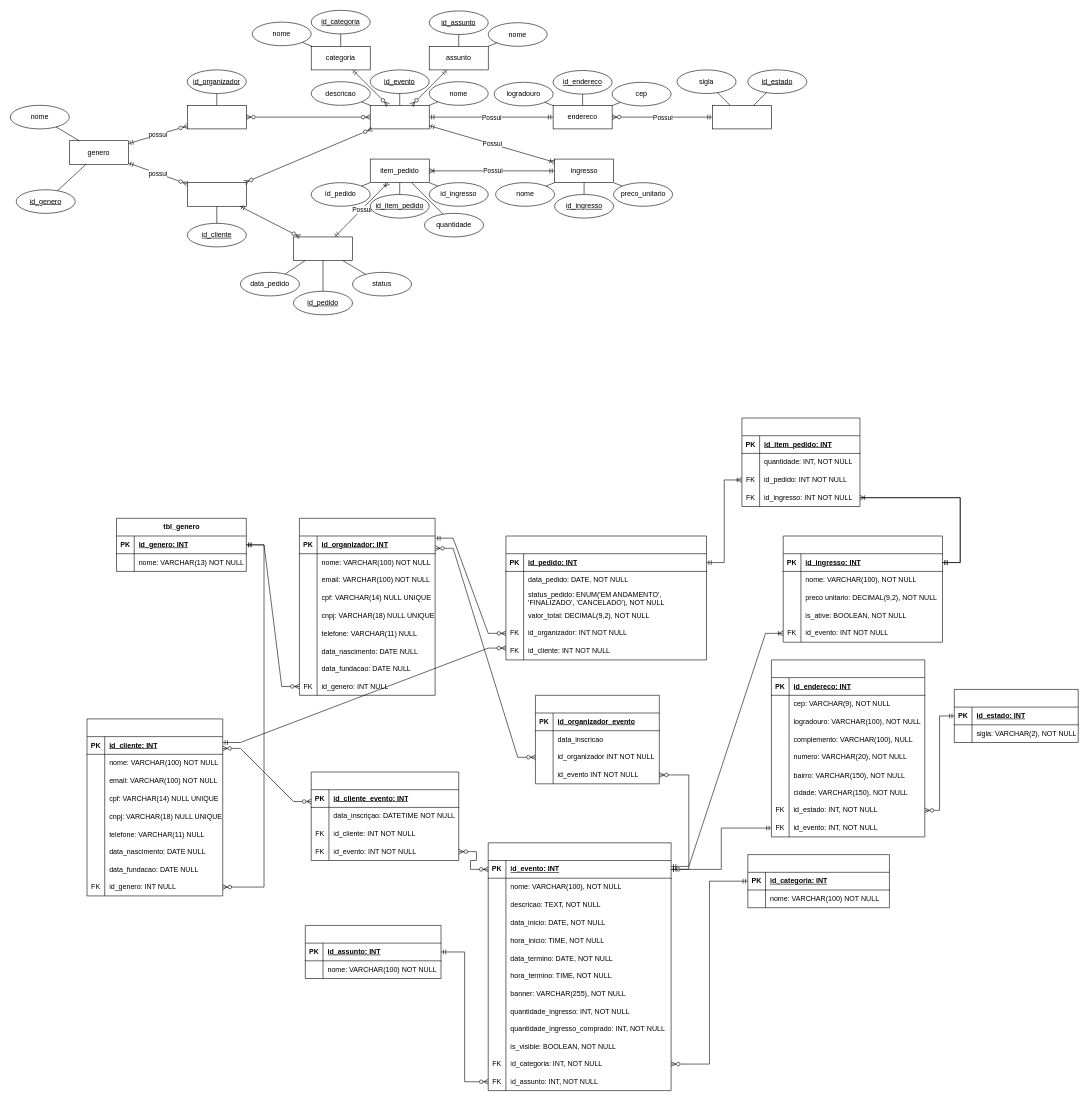
Some shapes in this 1089 by 1101 pixel diagram are drawn without their labels. Each missing label, with the box of its shape:
cliente: (187, 182, 246, 206)
estado: (712, 105, 771, 129)
evento: (370, 105, 429, 129)
organizador: (187, 105, 246, 129)
pedido: (293, 236, 353, 261)
tbl_assunto: (305, 925, 441, 979)
tbl_categoria: (747, 854, 889, 908)
tbl_cliente: (86, 718, 223, 896)
tbl_cliente_evento: (311, 771, 459, 861)
tbl_endereco: (771, 659, 925, 837)
tbl_estado: (954, 689, 1078, 743)
tbl_evento: (488, 842, 671, 1091)
tbl_ingresso: (783, 535, 943, 642)
tbl_item_pedido: (741, 417, 860, 507)
tbl_organizador: (299, 518, 435, 695)
tbl_organizador_evento: (535, 695, 659, 784)
tbl_pedido: (505, 535, 707, 660)
